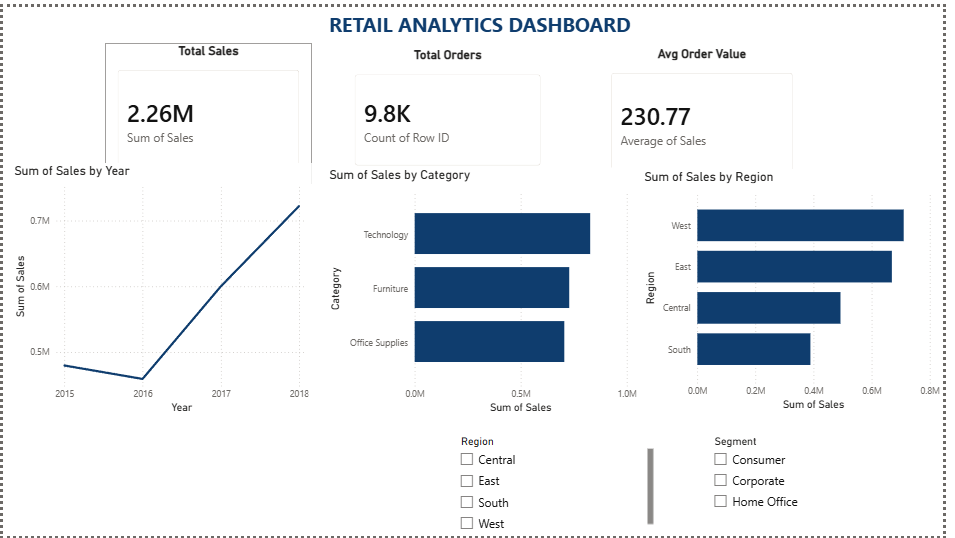

This screenshot's page, from the dashboard's own definition file:
{"tool":"powerbi","page":{"name":"Page 1","canvas":[1280,720],"ordinal":0},"visuals":[{"type":"cardVisual","title":"Total Sales","fields":{"Data":["Sum(train.Sales)"]},"box":[138.8,49,281.6,191.8],"z":0},{"type":"cardVisual","title":"Total Orders","fields":{"Data":["CountNonNull(train.Row ID)"]},"box":[461.2,55.1,287.8,177.6],"z":1},{"type":"cardVisual","title":"Avg Order Value","fields":{"Data":["Avg(train.Sales)"]},"box":[810.2,53.1,281.6,191.8],"z":2},{"type":"lineChart","fields":{"Category":["train.Order Date.Variation.Date Hierarchy.Year","train.Order Date.Variation.Date Hierarchy.Quarter","train.Order Date.Variation.Date Hierarchy.Month","train.Order Date.Variation.Date Hierarchy.Day"],"Y":["Sum(train.Sales)"]},"box":[10.2,212.2,410.2,344.9],"z":3},{"type":"clusteredBarChart","fields":{"Category":["train.Category"],"Y":["Sum(train.Sales)"]},"box":[438.8,218.4,428.6,338.8],"z":4},{"type":"clusteredBarChart","fields":{"Category":["train.Region"],"Y":["Sum(train.Sales)"]},"box":[867.3,220.4,412.2,332.7],"z":5},{"type":"slicer","fields":{"Values":["train.Segment"]},"box":[955.1,577.6,324.5,142.9],"z":6},{"type":"slicer","fields":{"Values":["train.Region"]},"box":[610.2,577.6,279.6,142.9],"z":7},{"type":"textbox","box":[10.2,0,1269.4,49],"z":8}]}

Visuals, with their boxes in screenshot pixels (x1, y1, x2, y2), scaled from the page's 1280x720 canvas onto the 955x538 screenshot:
"Total Sales" cardVisual: bbox=(104, 37, 314, 180)
"Total Orders" cardVisual: bbox=(344, 41, 559, 174)
"Avg Order Value" cardVisual: bbox=(604, 40, 815, 183)
lineChart - train.Order Date.Variation.Date Hierarchy.Year x train.Order Date.Variation.Date Hierarchy.Quarter: bbox=(8, 159, 314, 416)
clusteredBarChart - train.Category x Sum(train.Sales): bbox=(327, 163, 647, 416)
clusteredBarChart - train.Region x Sum(train.Sales): bbox=(647, 165, 954, 413)
slicer - train.Segment: bbox=(713, 432, 954, 537)
slicer - train.Region: bbox=(455, 432, 664, 537)
textbox: bbox=(8, 0, 954, 37)
